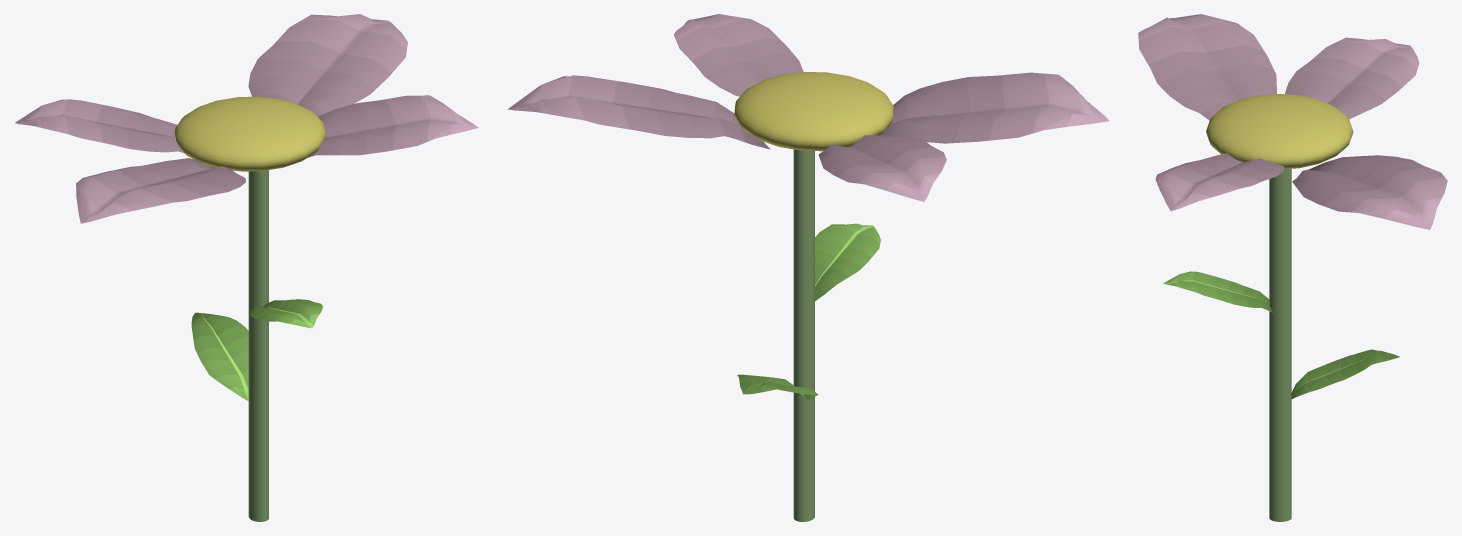
Rendered from pink2.fbx.
The picture shows the model from 3 angles, left to right: view 1: azimuth 30°, elevation 25°; view 2: azimuth 150°, elevation 25°; view 3: azimuth 270°, elevation 25°; orthographic projection. The views are drawn at different scales.
Visible parts, largest first — view 1: pasted__pasted__pasted__pasted__pasted__polySurface1, pasted__pasted__pasted__polySurface1, pSphere1, pasted__pCylinder1, polySurface1, pasted__polySurface1; view 2: pasted__pasted__pasted__pasted__pasted__polySurface1, pasted__pasted__pasted__polySurface1, pSphere1, pasted__pCylinder1, pasted__polySurface1, polySurface1; view 3: pasted__pasted__pasted__pasted__pasted__polySurface1, pasted__pasted__pasted__polySurface1, pSphere1, pasted__pCylinder1, pasted__polySurface1, polySurface1.
Part boxes in pixels (x1,y1,x2,y2): pasted__pasted__pasted__pasted__pasted__polySurface1: [76, 14, 407, 223]; pasted__pasted__pasted__polySurface1: [15, 95, 478, 157]; pSphere1: [174, 96, 325, 171]; pasted__pCylinder1: [248, 170, 268, 521]; polySurface1: [191, 312, 248, 401]; pasted__polySurface1: [248, 299, 323, 328]; pasted__pasted__pasted__pasted__pasted__polySurface1: [508, 72, 1109, 149]; pasted__pasted__pasted__polySurface1: [673, 14, 946, 201]; pSphere1: [734, 72, 894, 151]; pasted__pCylinder1: [793, 149, 814, 521]; pasted__polySurface1: [814, 223, 880, 301]; polySurface1: [737, 374, 818, 399]; pasted__pasted__pasted__pasted__pasted__polySurface1: [1138, 14, 1447, 229]; pasted__pasted__pasted__polySurface1: [1155, 37, 1419, 211]; pSphere1: [1206, 94, 1353, 169]; pasted__pCylinder1: [1269, 169, 1291, 521]; pasted__polySurface1: [1163, 271, 1272, 312]; polySurface1: [1291, 349, 1399, 398].
Size of the model in its own units: 0.6459 by 0.5783 by 0.3986.
